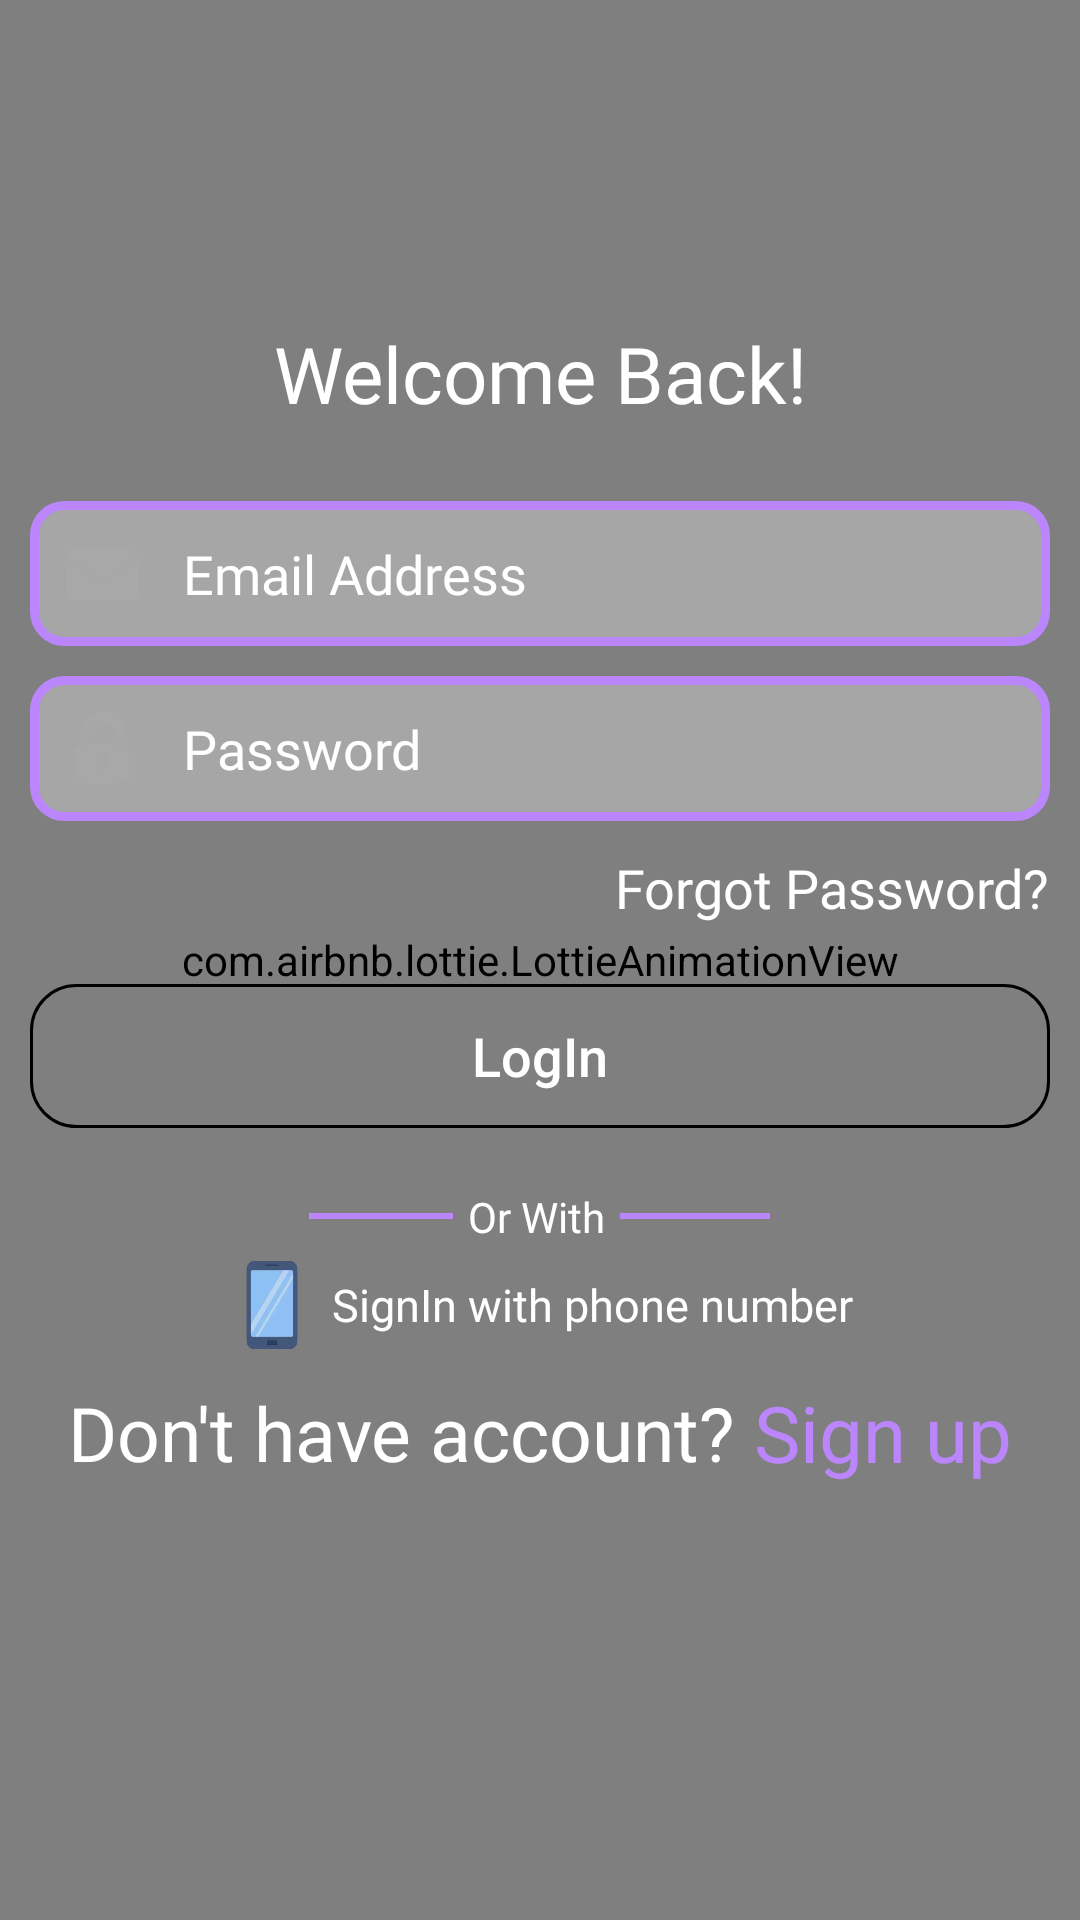

Where to tap for icons on this 1080×1920 app screen, as point (x, y):
mobilephone: point (272, 1305)
